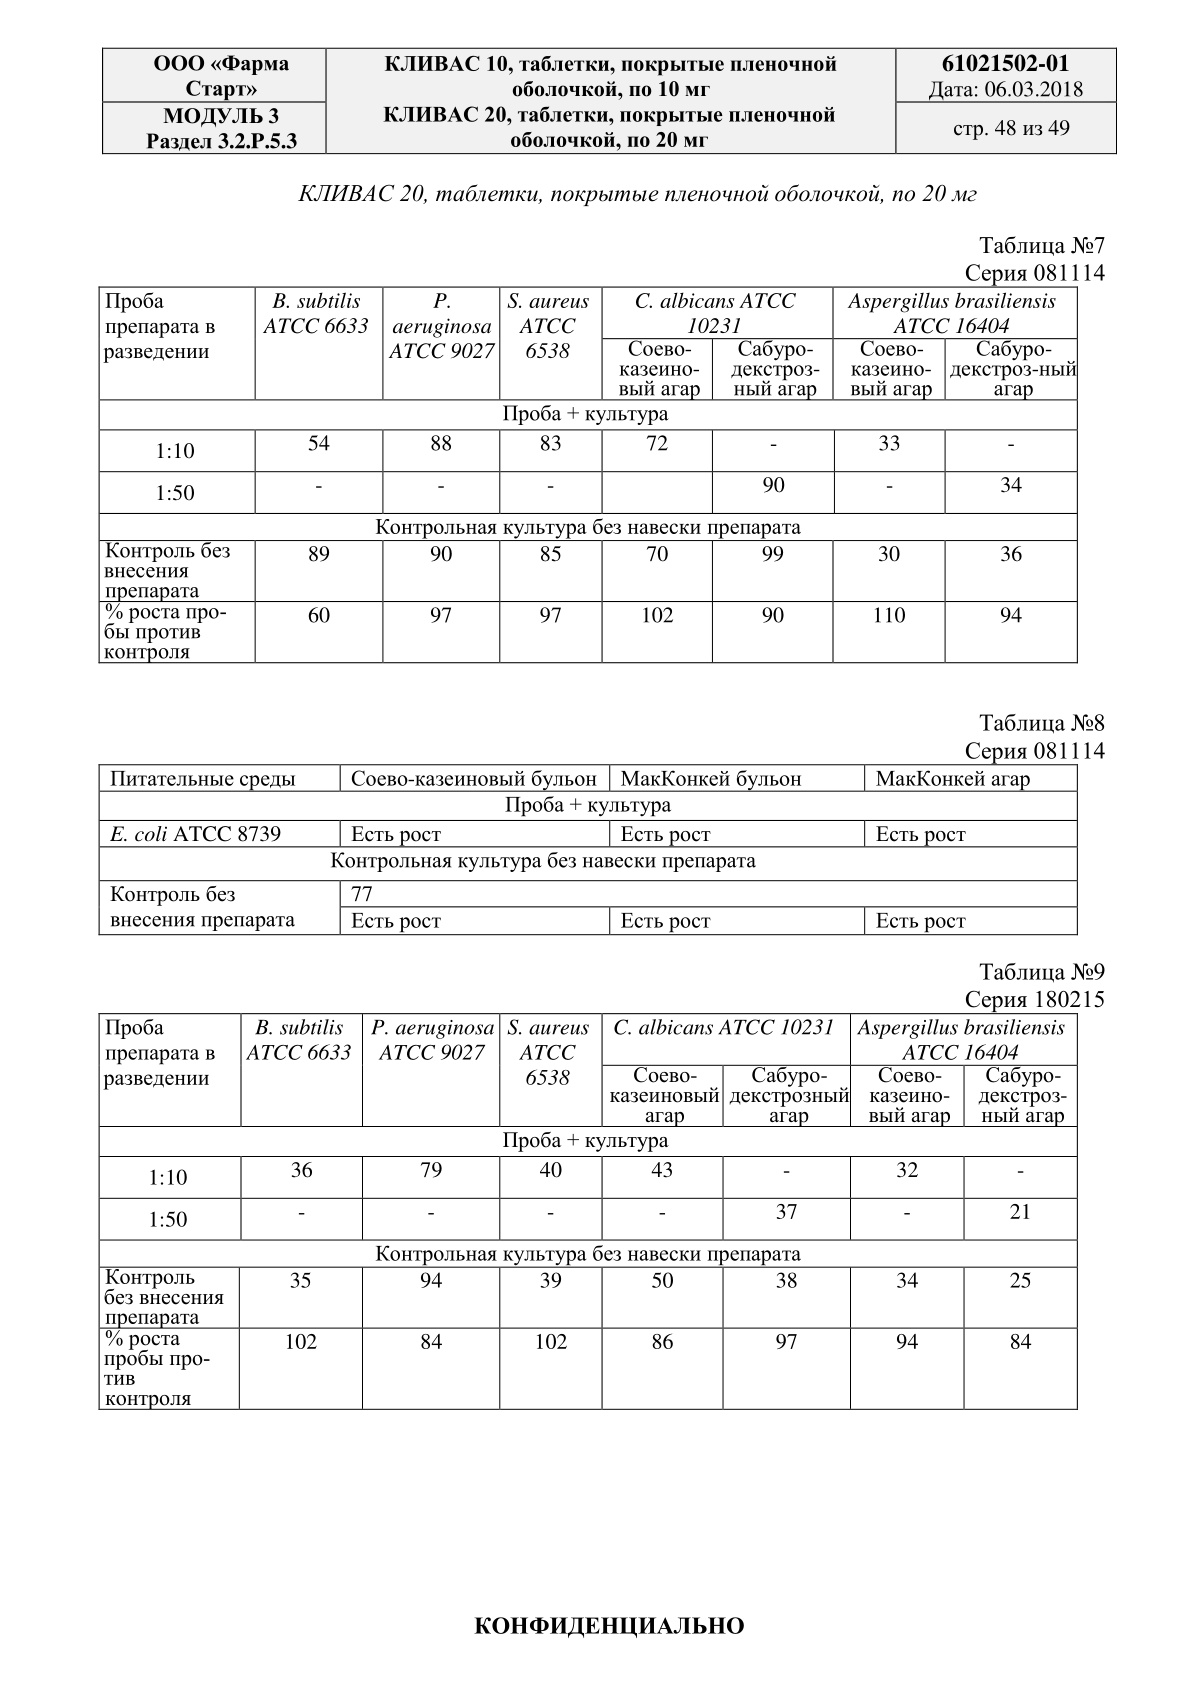merged_cells: (98, 1012, 1079, 1410), (98, 286, 1079, 665), (98, 765, 1078, 936), (101, 46, 1118, 155)
